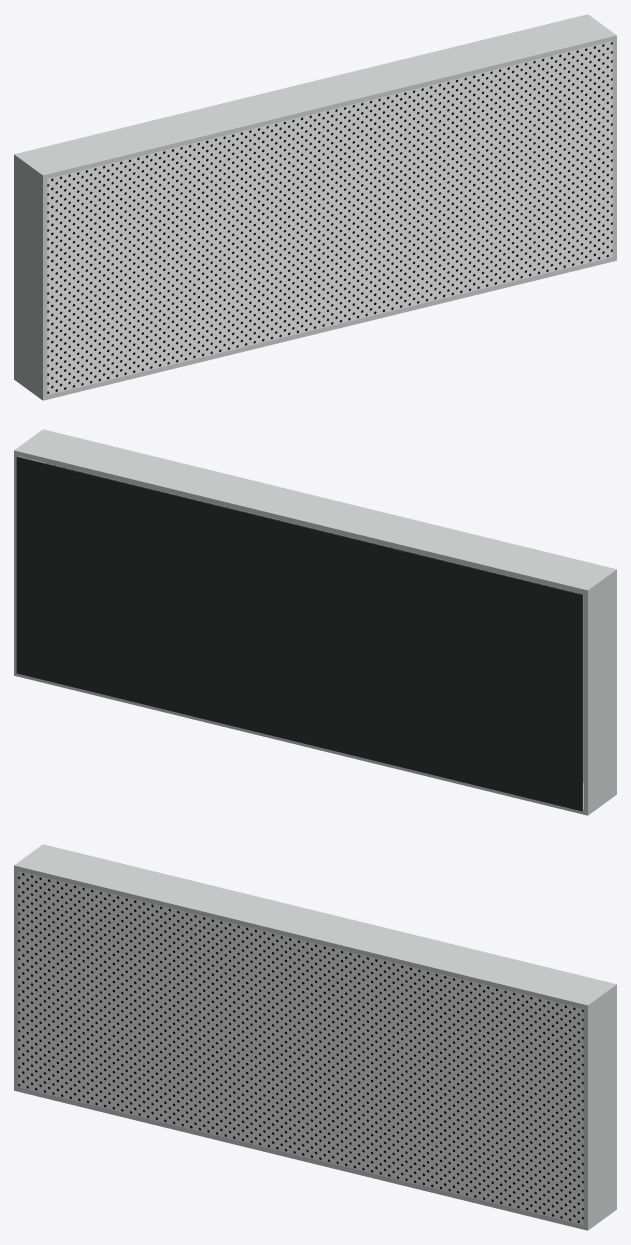
File: ecoclima-egff-400x150.glb
3 views of the same model, one above another, from view 1: azimuth 30°, elevation 25°; view 2: azimuth 150°, elevation 25°; view 3: azimuth 330°, elevation 25° (orthographic).
Parts seen in each view (by area): view 1: Profile_lamiera_forata.001, Profile_ritorno.120, Profile_ritorno.122, Profile_ritorno.121, Profile_ritorno.123; view 2: Interno.032, Profile_ritorno.120, Profile_ritorno.122, Profile_ritorno.121, Profile_lamiera_forata.001, Profile_ritorno.123; view 3: Profile_lamiera_forata.001, Profile_ritorno.120, Profile_ritorno.123, Profile_ritorno.121, Profile_ritorno.122.
Part boxes in pixels (x1,y1,x2,y2): Profile_lamiera_forata.001: [47, 41, 612, 394]; Profile_ritorno.120: [14, 14, 616, 179]; Profile_ritorno.122: [14, 159, 47, 395]; Profile_ritorno.121: [14, 256, 616, 400]; Profile_ritorno.123: [612, 40, 616, 256]; Interno.032: [16, 456, 582, 811]; Profile_ritorno.120: [14, 429, 616, 594]; Profile_ritorno.122: [583, 574, 616, 810]; Profile_ritorno.121: [14, 671, 616, 815]; Profile_lamiera_forata.001: [46, 463, 583, 782]; Profile_ritorno.123: [14, 455, 46, 671]; Profile_lamiera_forata.001: [18, 871, 583, 1224]; Profile_ritorno.120: [14, 844, 616, 1009]; Profile_ritorno.123: [583, 989, 616, 1225]; Profile_ritorno.121: [14, 1086, 616, 1230]; Profile_ritorno.122: [14, 870, 18, 1086].
Bounding box in the file's own units: 0.4 × 0.15 × 0.037.
Materials: 3 (1 with a texture image).
